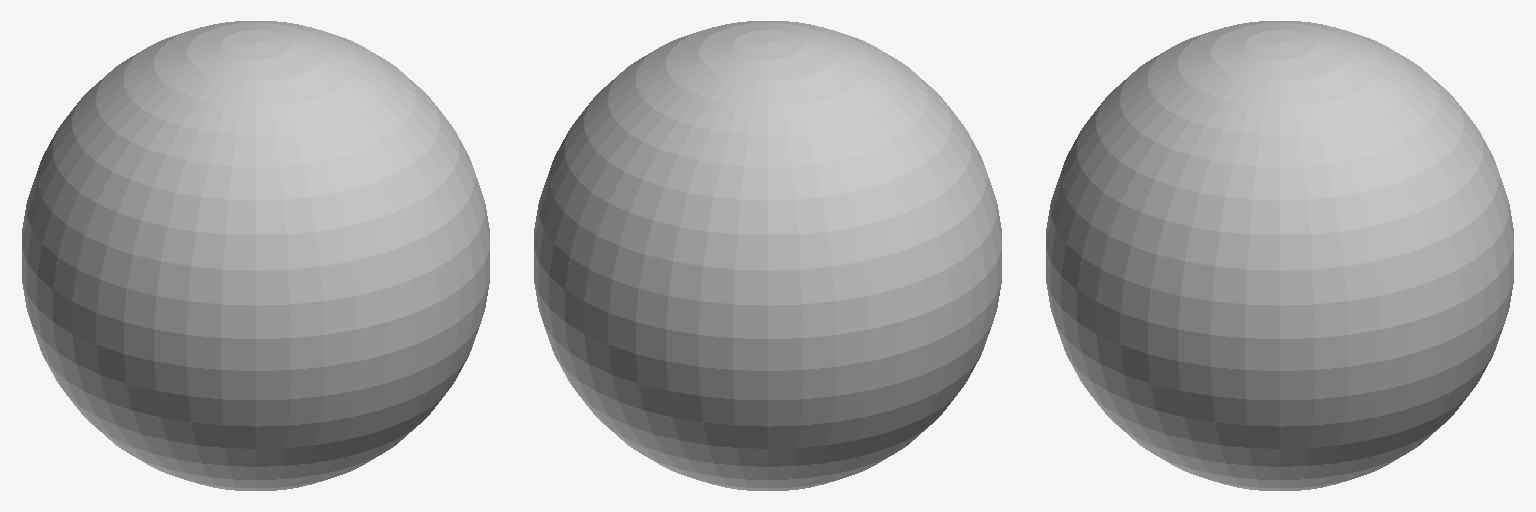
File: sphereinverted.obj
3 views of the same model, side by side, from view 1: azimuth 30°, elevation 25°; view 2: azimuth 150°, elevation 25°; view 3: azimuth 270°, elevation 25° (orthographic).
Visible parts, largest first — view 1: Sphere; view 2: Sphere; view 3: Sphere.
Boxes of the visible parts, x1=… form: Sphere: x1=22, y1=21, x2=489, y2=490; Sphere: x1=534, y1=21, x2=1001, y2=490; Sphere: x1=1046, y1=21, x2=1513, y2=490.
Size of the model in its own units: 385 by 386 by 384.